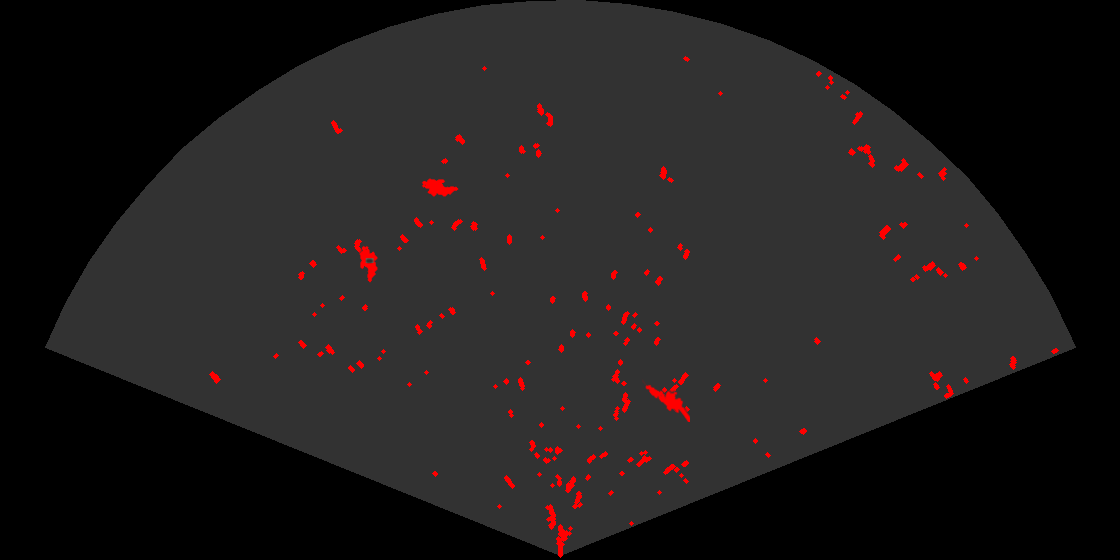AUV: (358, 244, 378, 284), (420, 177, 460, 197)
frogman: (642, 378, 690, 422)
